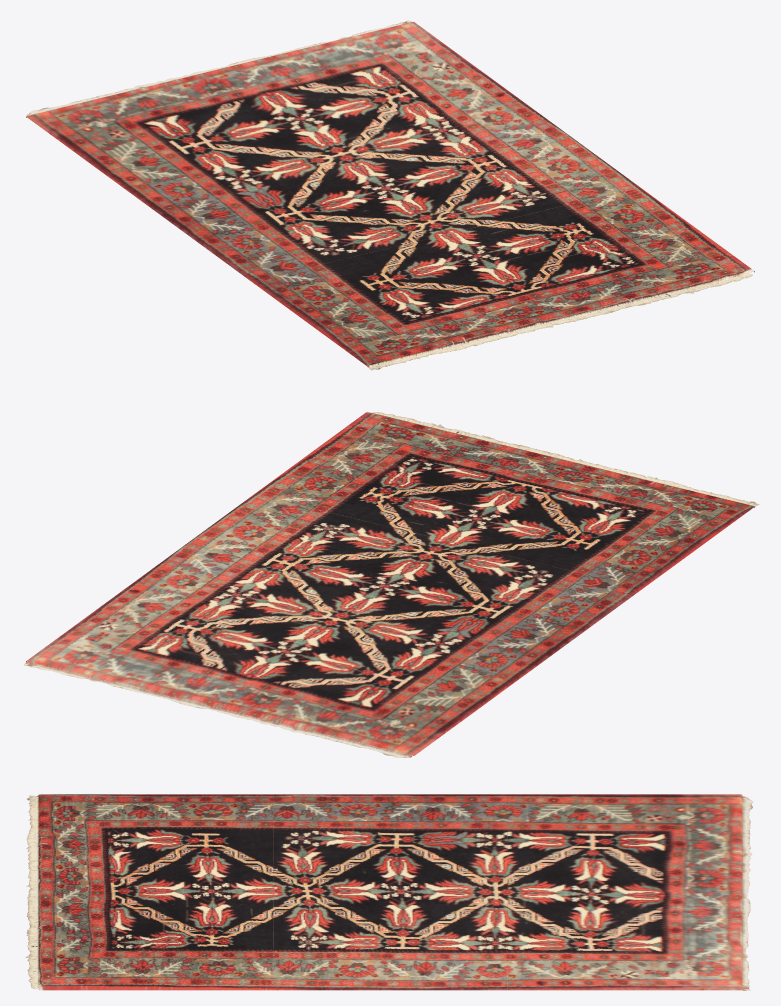
Rendered from sirjan-2015-016-android.glb.
3 views of the same model, one above another, from view 1: azimuth 30°, elevation 25°; view 2: azimuth 150°, elevation 25°; view 3: azimuth 270°, elevation 25° (orthographic). The views are drawn at different scales.
Visible parts, largest first — view 1: rug; view 2: rug; view 3: rug.
Boxes of the visible parts, x1,y1,x2,y2 form: rug: [26, 20, 754, 370]; rug: [23, 411, 759, 757]; rug: [25, 794, 752, 990].
Bounding box in the file's own units: 1.5 × 0.0122 × 2.44.
Materials: 5 (4 with a texture image).
